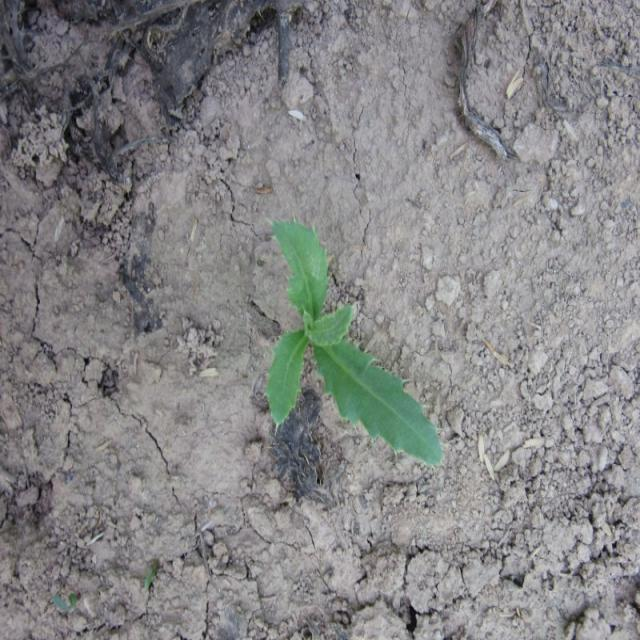cs: (264, 210, 447, 468)
